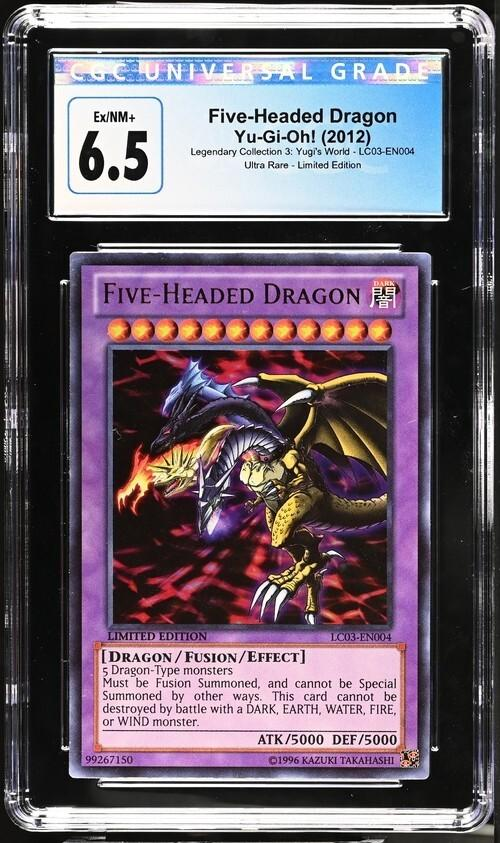card-2UtV: (68, 251, 432, 780)
